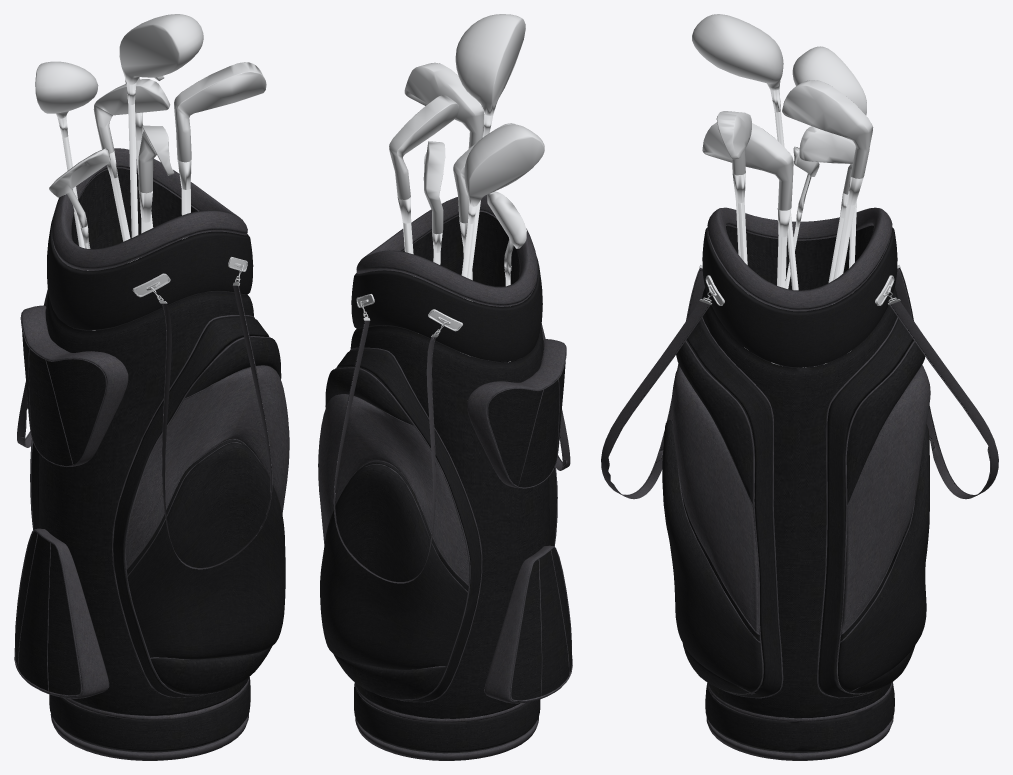
File: cart_bag.glb
3 renders of one model, left to right at view 1: azimuth 30°, elevation 25°; view 2: azimuth 150°, elevation 25°; view 3: azimuth 270°, elevation 25°, orthographic. The views are drawn at different scales.
Parts seen in each view (by area): view 1: prop; view 2: prop; view 3: prop.
Boxes of the visible parts, x1,y1,x2,y2 form: prop: [14, 14, 289, 760]; prop: [318, 14, 572, 760]; prop: [601, 14, 998, 760].
Size of the model in its own units: 0.4018 by 1.25 by 0.6469.
2 materials, 1 textured.
